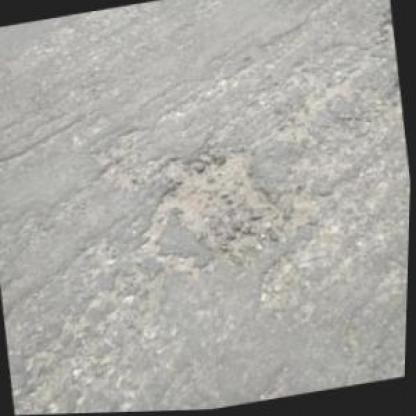pothole: (142, 136, 292, 273)
